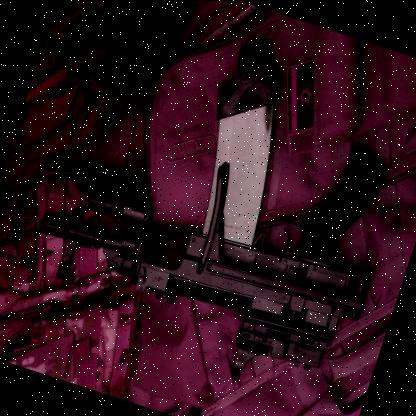rifle: (11, 33, 416, 409)
